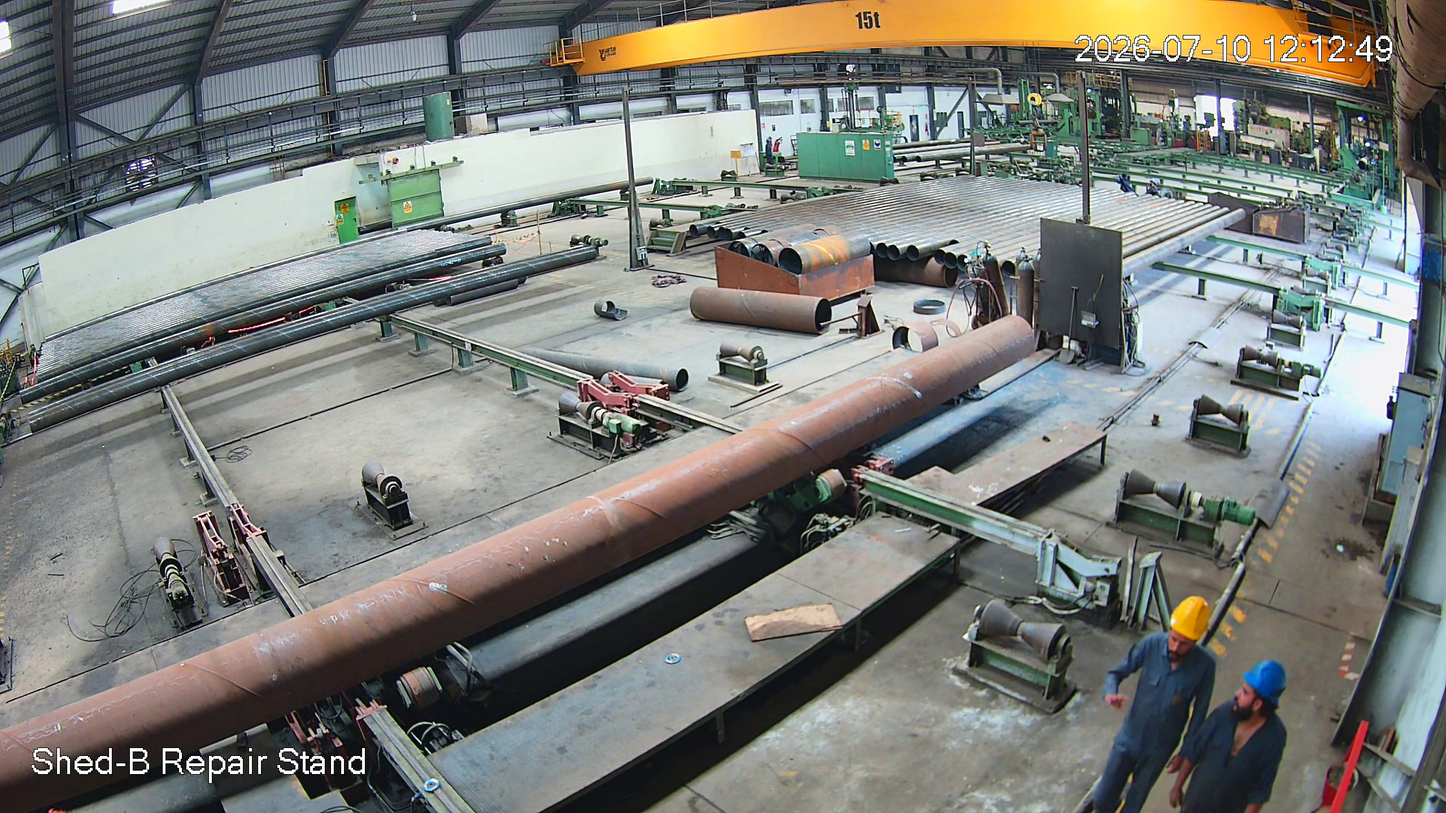Helmet: (1236, 649, 1317, 741), (1158, 585, 1210, 674)
Person: (1089, 594, 1230, 813), (1186, 663, 1321, 813)
